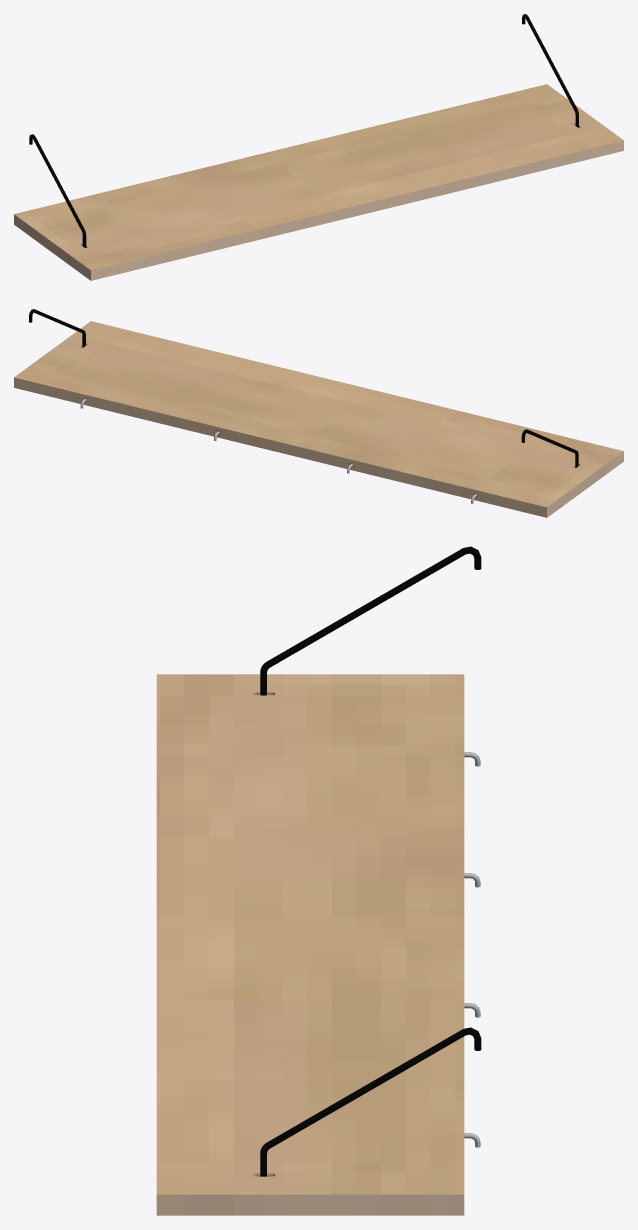
Rendered from board80x20.glb.
3 views of the same model, one above another, from view 1: azimuth 30°, elevation 25°; view 2: azimuth 150°, elevation 25°; view 3: azimuth 270°, elevation 25° (orthographic). The views are drawn at different scales.
Visible parts, largest first — view 1: Geom3D (×2), Geom3D_ (×2); view 2: Geom3D (×2), Geom3D_ (×2); view 3: Geom3D (×2), Geom3D_ (×2).
Boxes of the visible parts, x1,y1,x2,y2 form: Geom3D (×2): [14, 84, 623, 280]; Geom3D_ (×2): [29, 14, 578, 247]; Geom3D (×2): [14, 321, 623, 517]; Geom3D_ (×2): [29, 309, 578, 467]; Geom3D (×2): [156, 674, 464, 1215]; Geom3D_ (×2): [260, 546, 481, 1176].
Size of the model in its own units: 0.8 by 0.1211 by 0.2111.
4 materials, 3 textured.
